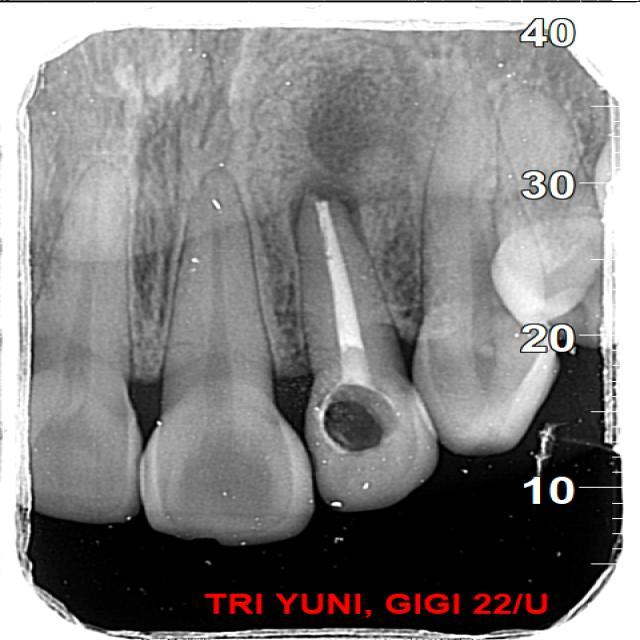individual-tooth-8tto: (139, 169, 314, 539), (411, 84, 560, 462), (287, 198, 431, 516)
